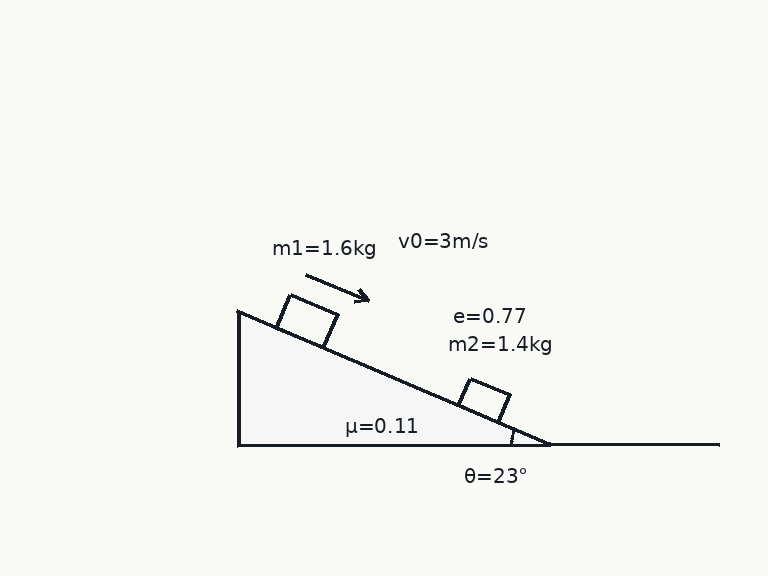block: (274, 292, 339, 350), (456, 375, 511, 424)
ramp: (236, 310, 553, 447)
